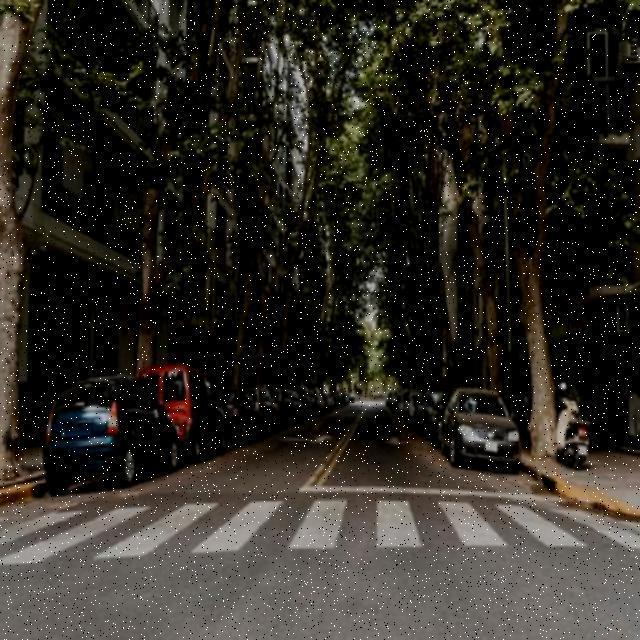Pedestrian crosswalk: (2, 488, 640, 574)
